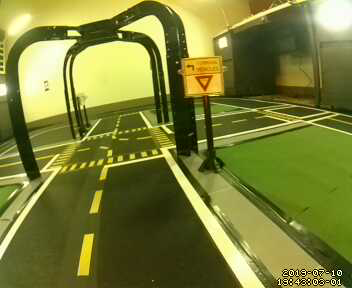Turn Yield: (181, 55, 227, 98)
